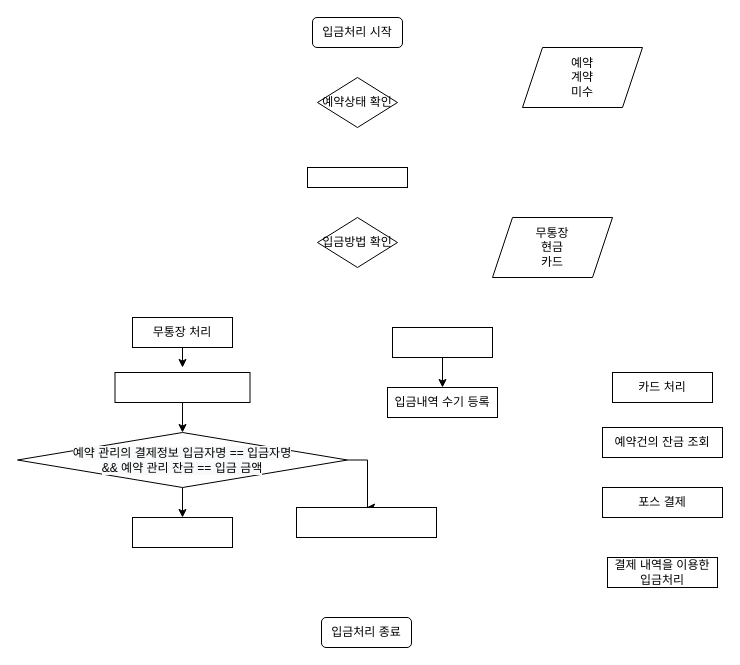
The diagram is 740 pixels wide and 665 high, and some of its shapes have lost their labels. The shapes that lost their labels are listed below. From the top down, each one's centre as x and y in pixels, then its label:
(x=357, y=177): 잔금 확인
(x=442, y=342): 현금 처리
(x=182, y=387): 은행 입금 내역 등록 (자동 X 사용자가 등록
(x=182, y=532): 입금처리
(x=366, y=522): 수동 매칭으로 입금처리
